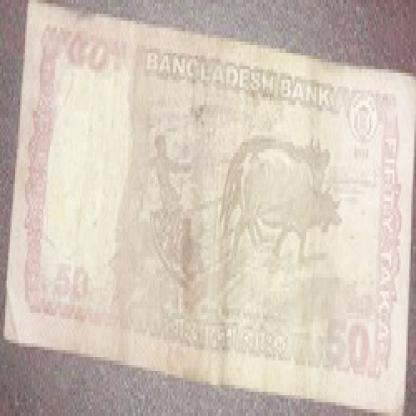Fifty taka: (60, 17, 118, 100), (322, 315, 379, 398)
